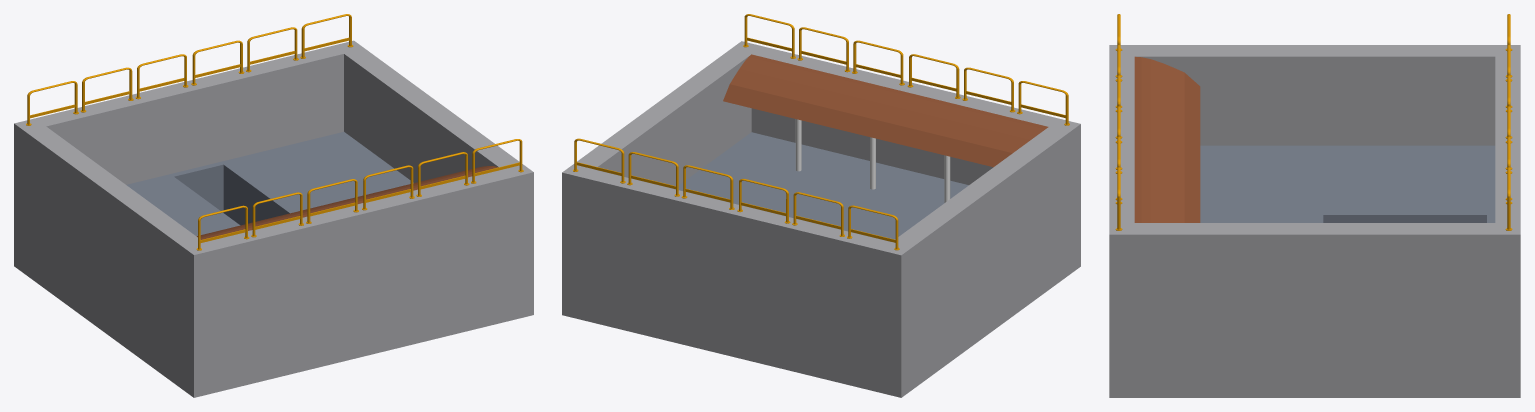
The model's file is wavetank.dae.
The picture shows the model from 3 angles, left to right: view 1: azimuth 30°, elevation 25°; view 2: azimuth 150°, elevation 25°; view 3: azimuth 270°, elevation 25°; orthographic projection. The views are drawn at different scales.
Parts seen in each view (by area): view 1: Cube, Cube.002, Plane, Plane.003, Plane.006, Plane.009, Plane.004, Plane.011, Plane.005, Plane.001, Plane.012, Plane.008 (+3 smaller); view 2: Cube, Plane, Cube.002, Plane.006, Plane.002, Plane.001, Plane.012, Plane.009, Plane.011, Plane.003, Plane.008, Plane.005 (+3 smaller); view 3: Cube, Cube.002, Plane.
Boxes of the visible parts, x1,y1,x2,y2 form: Cube: (14,40,533,397); Cube.002: (126,132,413,236); Plane: (197,166,497,239); Plane.003: (246,27,298,72); Plane.006: (362,165,414,210); Plane.009: (191,40,244,85); Plane.004: (251,192,303,237); Plane.011: (80,67,133,112); Plane.005: (306,179,358,223); Plane.001: (300,14,353,58); Plane.012: (26,81,78,125); Plane.008: (471,139,523,183); Cube: (562,41,1080,397); Plane: (723,54,1048,167); Cube.002: (674,132,968,241); Plane.006: (852,40,904,85); Plane.002: (1017,81,1069,125); Plane.001: (573,138,625,183); Plane.012: (847,205,899,250); Plane.009: (681,165,734,209); Plane.011: (792,192,844,236); Plane.003: (627,152,679,196); Plane.008: (743,14,795,58); Plane.005: (907,54,960,98); Cube: (1109,45,1520,397); Cube.002: (1200,145,1495,222); Plane: (1134,56,1200,222).
Size of the model in its own units: 13.7 by 12.56 by 6.78.
